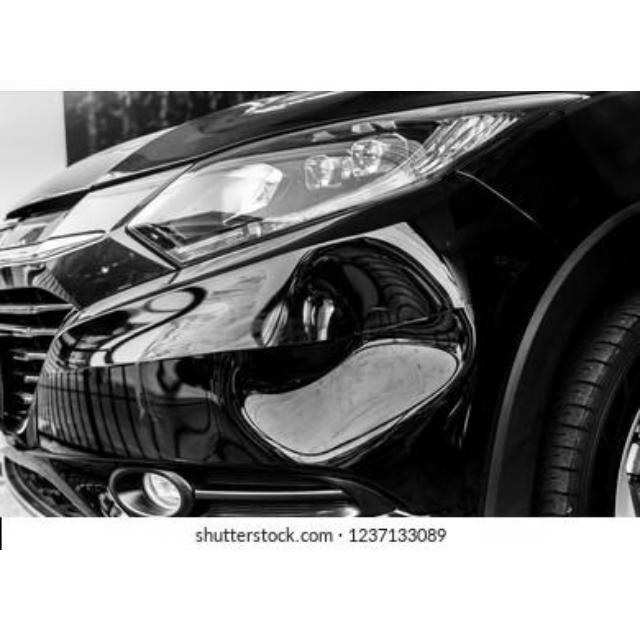front-bumper-dent: (61, 217, 527, 520)
